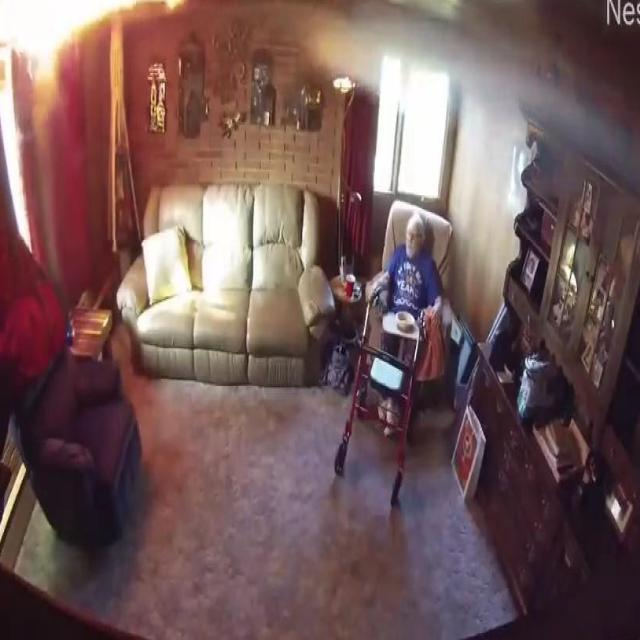fire: (312, 7, 541, 118)
smoke: (0, 0, 193, 62)
